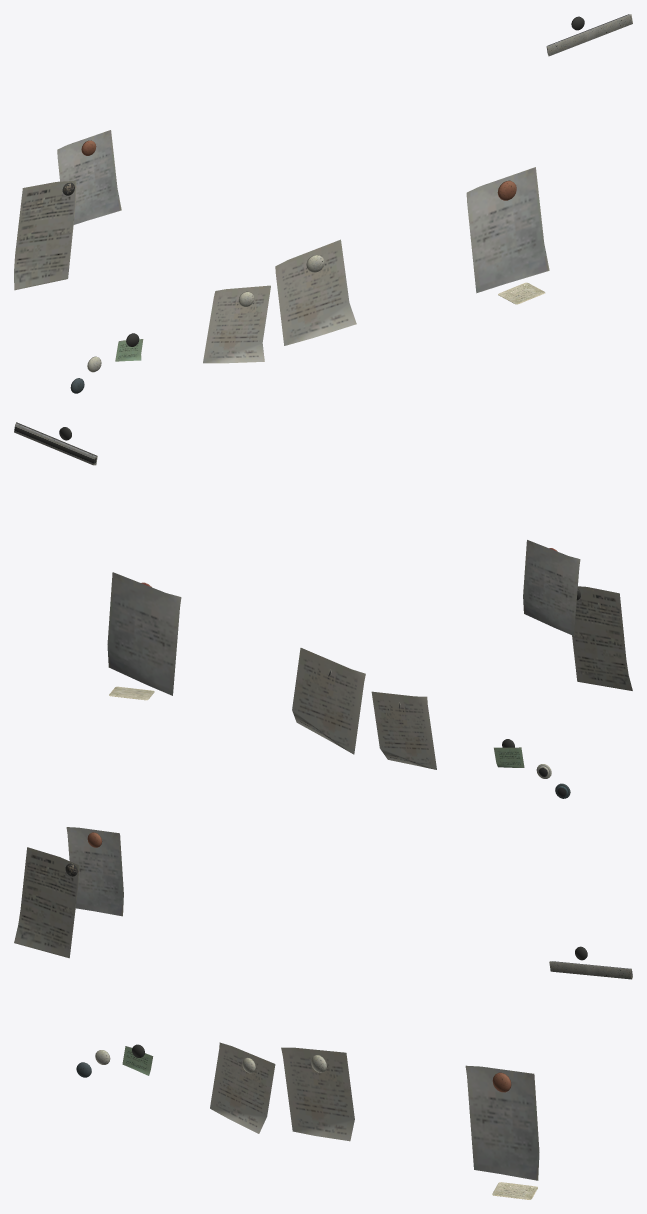
Rendered from 012_PaperMagnet.fbx.
The picture shows the model from 3 angles, top to bottom: view 1: azimuth 30°, elevation 25°; view 2: azimuth 150°, elevation 25°; view 3: azimuth 330°, elevation 25°; orthographic projection.
Visible parts, largest first — view 1: LOD_1_Group_2_Sub_1__sm36_012_PaperMagnet01A_A_Mat, LOD_1_Group_1_Sub_1__sm36_012_PaperMagnet01A_A_Mat, LOD_1_Group_0_Sub_1__sm36_012_PaperMagnet01A_A_Mat; view 2: LOD_1_Group_2_Sub_1__sm36_012_PaperMagnet01A_A_Mat, LOD_1_Group_1_Sub_1__sm36_012_PaperMagnet01A_A_Mat, LOD_1_Group_0_Sub_1__sm36_012_PaperMagnet01A_A_Mat; view 3: LOD_1_Group_2_Sub_1__sm36_012_PaperMagnet01A_A_Mat, LOD_1_Group_1_Sub_1__sm36_012_PaperMagnet01A_A_Mat, LOD_1_Group_0_Sub_1__sm36_012_PaperMagnet01A_A_Mat.
Boxes of the visible parts, x1=… form: LOD_1_Group_2_Sub_1__sm36_012_PaperMagnet01A_A_Mat: x1=14, y1=14, x2=632, y2=363; LOD_1_Group_1_Sub_1__sm36_012_PaperMagnet01A_A_Mat: x1=275, y1=167, x2=549, y2=345; LOD_1_Group_0_Sub_1__sm36_012_PaperMagnet01A_A_Mat: x1=70, y1=333, x2=143, y2=393; LOD_1_Group_2_Sub_1__sm36_012_PaperMagnet01A_A_Mat: x1=14, y1=422, x2=632, y2=769; LOD_1_Group_1_Sub_1__sm36_012_PaperMagnet01A_A_Mat: x1=107, y1=572, x2=365, y2=754; LOD_1_Group_0_Sub_1__sm36_012_PaperMagnet01A_A_Mat: x1=494, y1=739, x2=570, y2=798; LOD_1_Group_2_Sub_1__sm36_012_PaperMagnet01A_A_Mat: x1=14, y1=827, x2=632, y2=1199; LOD_1_Group_1_Sub_1__sm36_012_PaperMagnet01A_A_Mat: x1=281, y1=1047, x2=539, y2=1180; LOD_1_Group_0_Sub_1__sm36_012_PaperMagnet01A_A_Mat: x1=76, y1=1044, x2=153, y2=1077.
Size of the model in its own units: 2.46 by 0.9957 by 0.1244.
